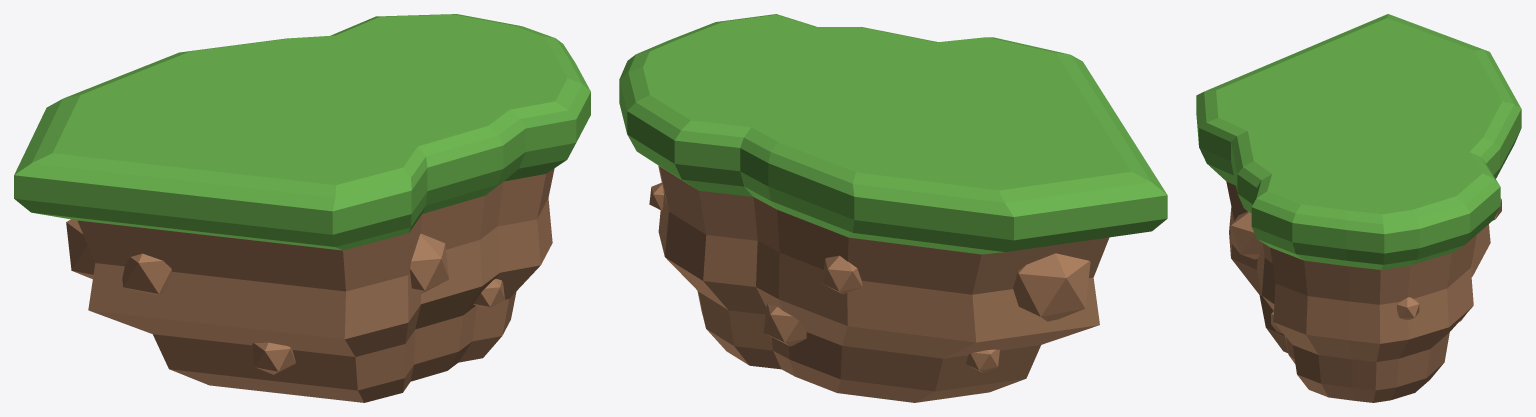
The model's file is Island.fbx.
3 views of the same model, side by side, from view 1: azimuth 30°, elevation 25°; view 2: azimuth 150°, elevation 25°; view 3: azimuth 270°, elevation 25° (orthographic). The views are drawn at different scales.
Visible parts, largest first — view 1: Grass, Soil, Icosphere, Icosphere.005, Icosphere.004, Icosphere.003, Icosphere.002; view 2: Grass, Soil, Icosphere.004, Icosphere.007, Icosphere.008, Icosphere.006; view 3: Grass, Soil, Icosphere, Icosphere.001.
Boxes of the visible parts, x1=… form: Grass: x1=14, y1=14, x2=590, y2=250; Soil: x1=77, y1=26, x2=554, y2=402; Icosphere: x1=410, y1=233, x2=449, y2=294; Icosphere.005: x1=122, y1=253, x2=171, y2=295; Icosphere.004: x1=66, y1=219, x2=95, y2=279; Icosphere.003: x1=252, y1=342, x2=295, y2=374; Icosphere.002: x1=473, y1=279, x2=504, y2=309; Grass: x1=619, y1=14, x2=1167, y2=254; Soil: x1=628, y1=51, x2=1109, y2=402; Icosphere.004: x1=1013, y1=253, x2=1090, y2=321; Icosphere.007: x1=763, y1=304, x2=806, y2=346; Icosphere.008: x1=822, y1=255, x2=862, y2=294; Icosphere.006: x1=966, y1=349, x2=999, y2=372; Grass: x1=1196, y1=14, x2=1521, y2=269; Soil: x1=1226, y1=181, x2=1490, y2=402; Icosphere: x1=1231, y1=211, x2=1260, y2=259; Icosphere.001: x1=1396, y1=297, x2=1419, y2=319.
Size of the model in its own units: 358 by 165 by 223.
